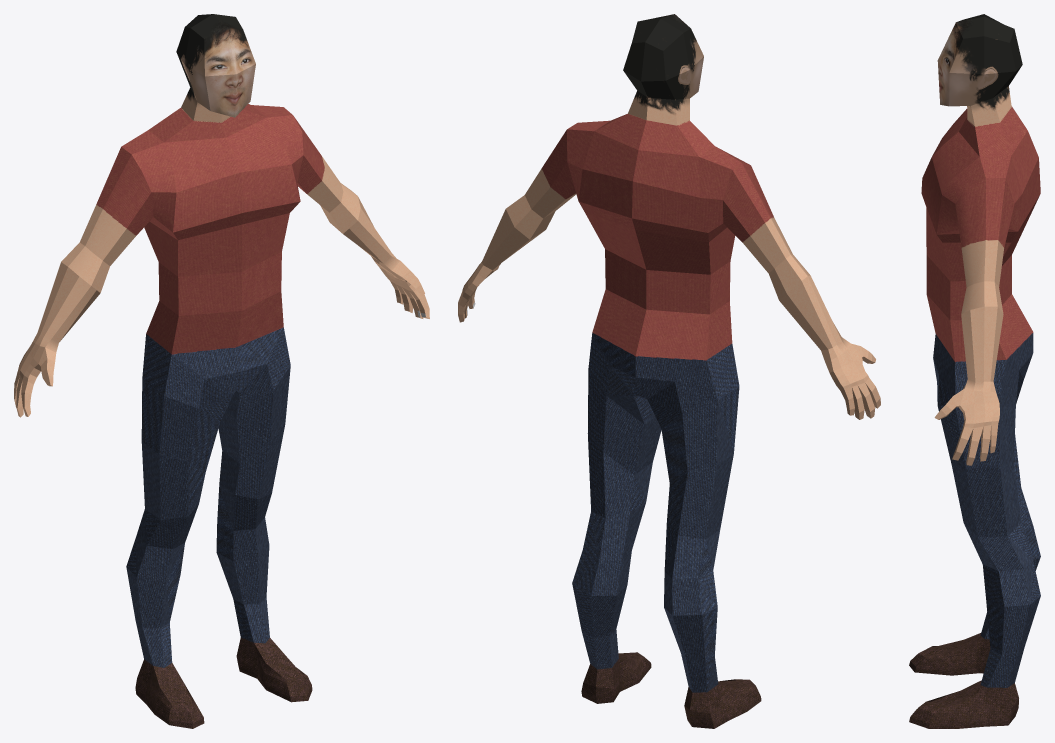
The model's file is Male_Passenger_Textured.fbx.
3 renders of one model, left to right at view 1: azimuth 30°, elevation 25°; view 2: azimuth 150°, elevation 25°; view 3: azimuth 270°, elevation 25°, orthographic.
Visible parts, largest first — view 1: male_model_quad; view 2: male_model_quad; view 3: male_model_quad.
Part boxes in pixels (x1=…): male_model_quad: x1=14, y1=14, x2=429, y2=728; male_model_quad: x1=458, y1=14, x2=880, y2=728; male_model_quad: x1=909, y1=14, x2=1040, y2=728.
Bounding box in the file's own units: 112 × 177 × 31.24.
